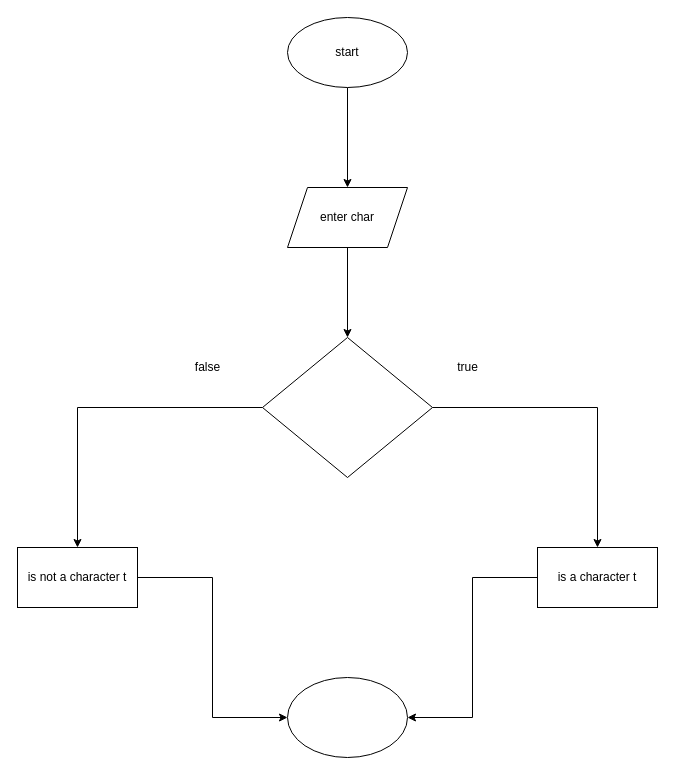
The diagram is 675 pixels wide and 775 high, and some of its shapes have lost their labels. Each missing label, with the box of its shape:
if char == t: (262, 336, 432, 478)
stop: (286, 676, 408, 758)
